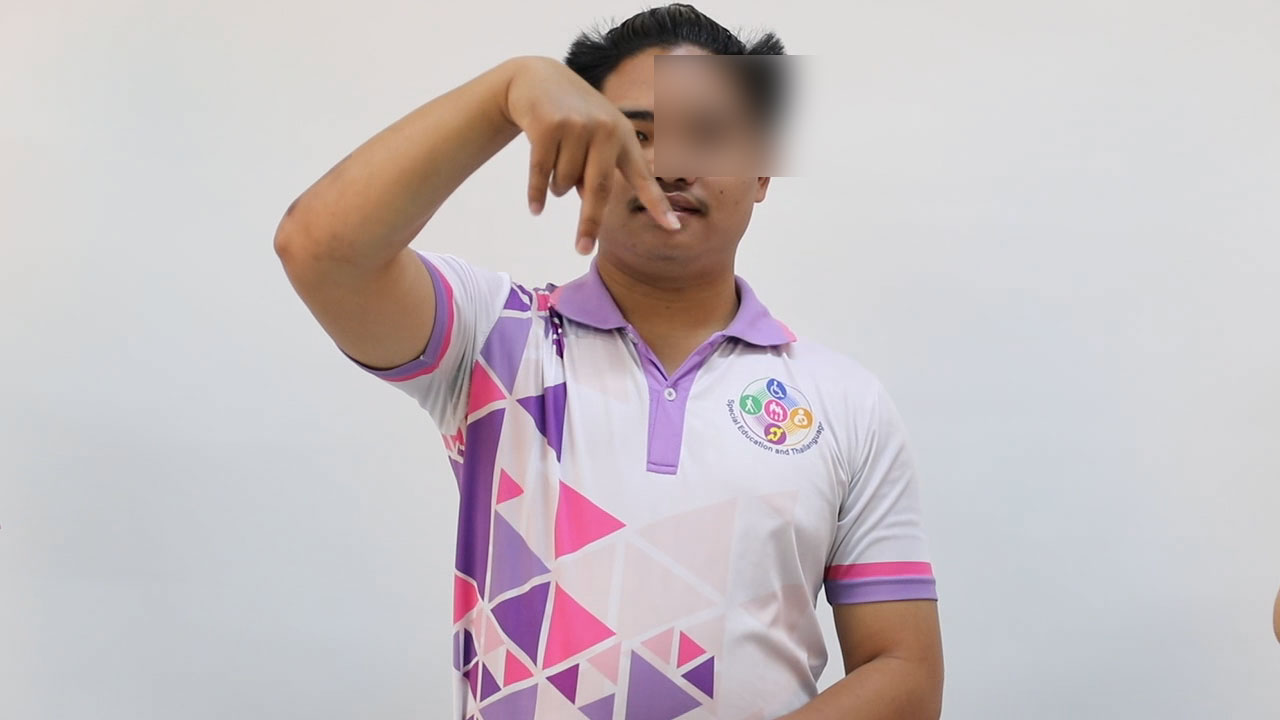por: (489, 43, 692, 258)
